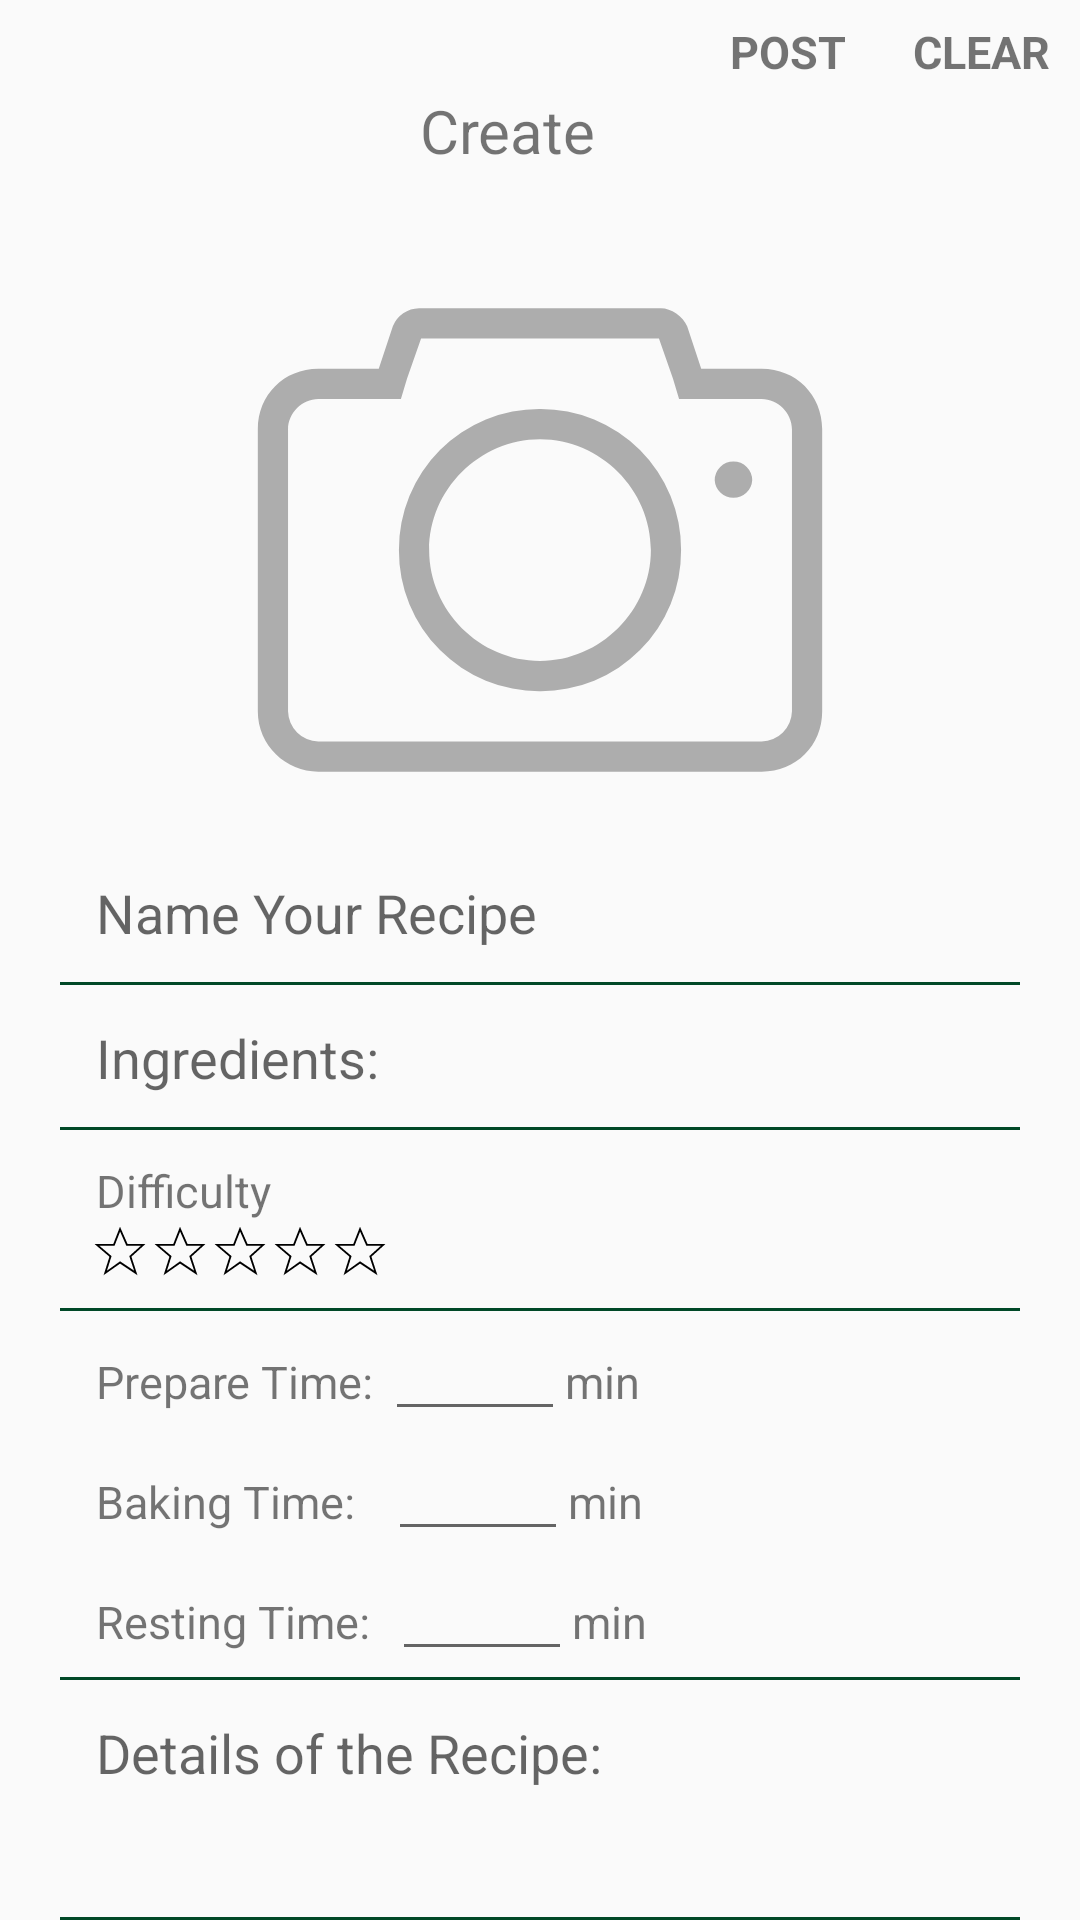

Icons on this 1080 x 1920 Android screen, each with its box as (x1, y1, x2, y2):
star: (95, 1227, 145, 1275), (155, 1227, 205, 1275), (215, 1227, 265, 1275), (275, 1227, 325, 1275), (335, 1227, 385, 1275)
